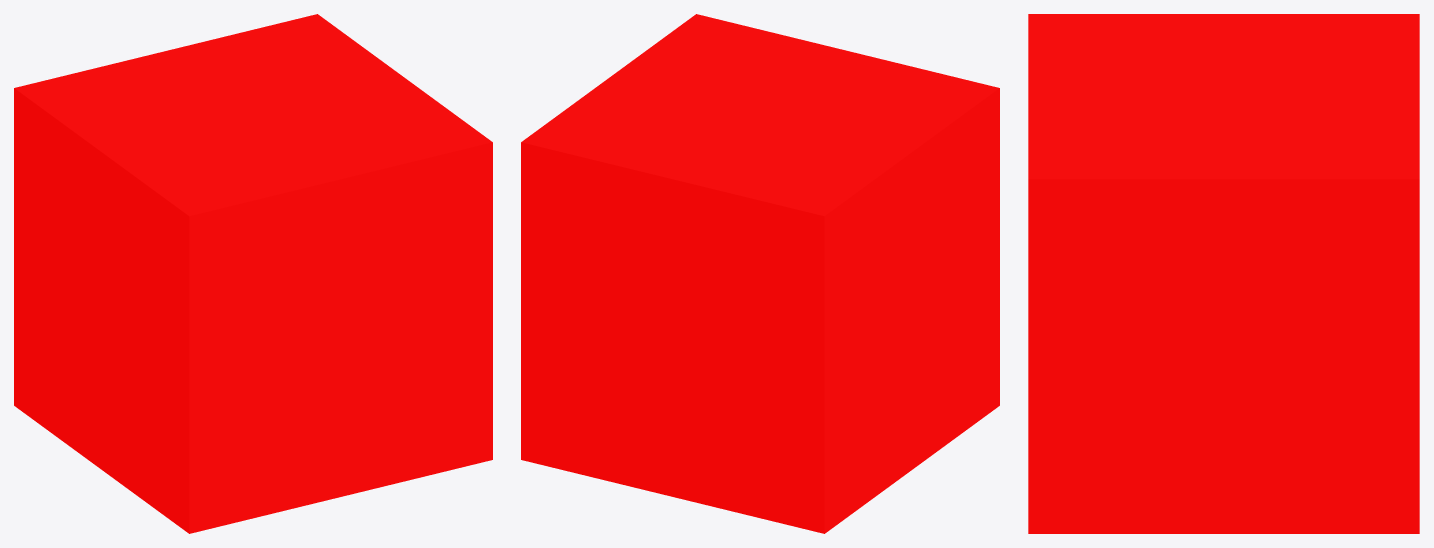
The model's file is Items.fbx_Escape_Box_1.fbx.
3 views of the same model, side by side, from view 1: azimuth 30°, elevation 25°; view 2: azimuth 150°, elevation 25°; view 3: azimuth 270°, elevation 25° (orthographic). The views are drawn at different scales.
Parts seen in each view (by area): view 1: Interactable.010; view 2: Interactable.010; view 3: Interactable.010.
Boxes of the visible parts, left/top/right/bottom form: Interactable.010: left=14, top=14, right=492, bottom=533; Interactable.010: left=521, top=14, right=999, bottom=533; Interactable.010: left=1028, top=14, right=1419, bottom=533.
Size of the model in its own units: 24 by 24 by 24.
